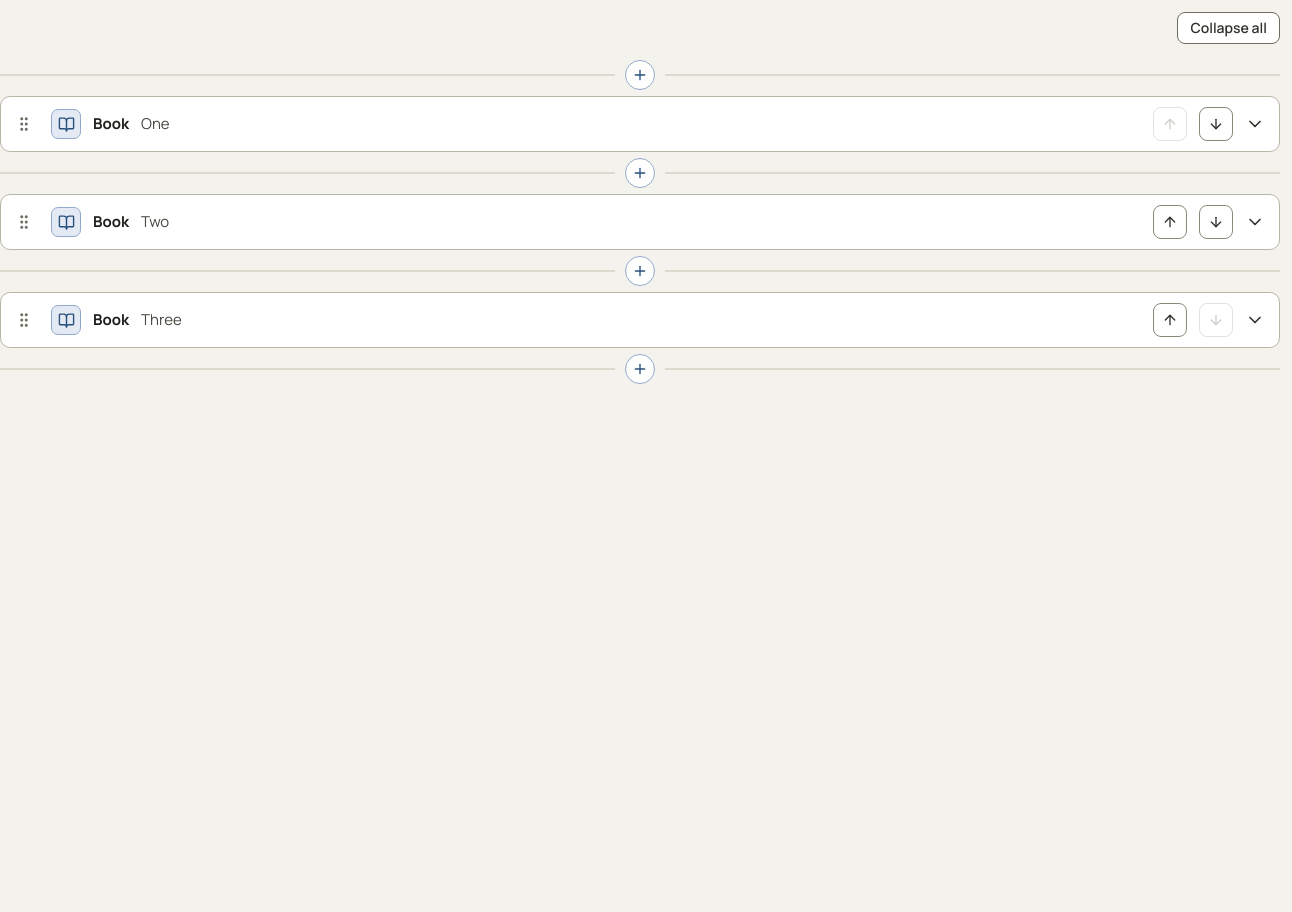
it: BlocksEditor with blocks that have no ids (older content) › opens only the block that was clicked
Click the button "Book Two". click: (111, 222)
box: [51,207,1141,237]
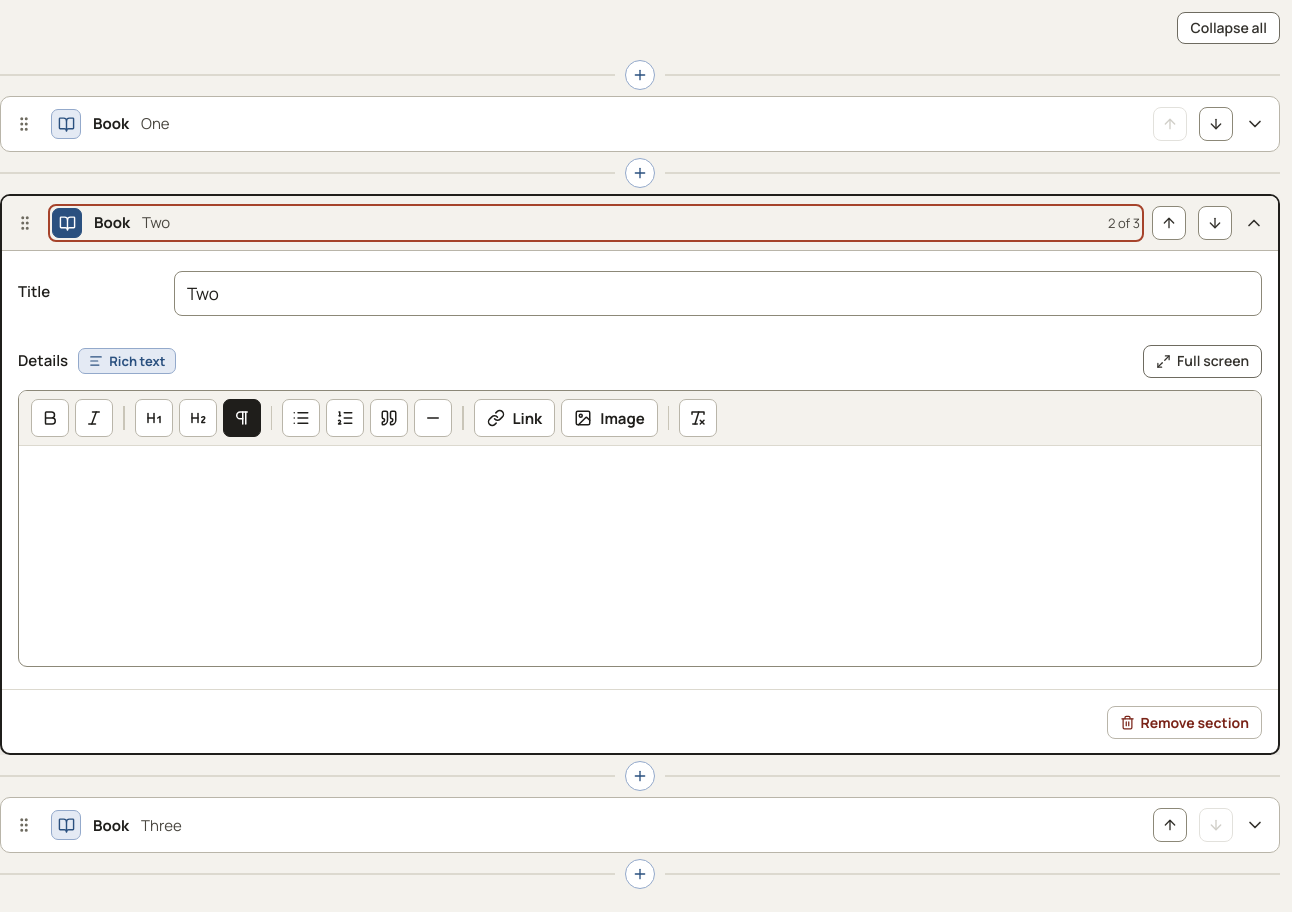
expect the button "Book Two 2 of 3" is expanded: met, box [52,208,1140,238]
